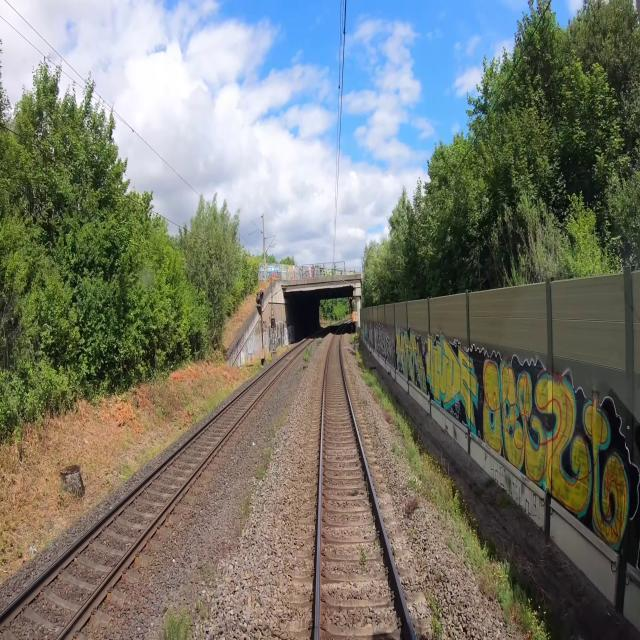Plant: (403, 433, 538, 639), (360, 371, 403, 433), (164, 606, 193, 639), (426, 591, 443, 639), (405, 490, 419, 517), (270, 415, 285, 435), (195, 599, 209, 620), (242, 494, 251, 519), (254, 462, 265, 479), (391, 440, 402, 455), (360, 545, 367, 566), (264, 446, 273, 459), (304, 348, 311, 361)
